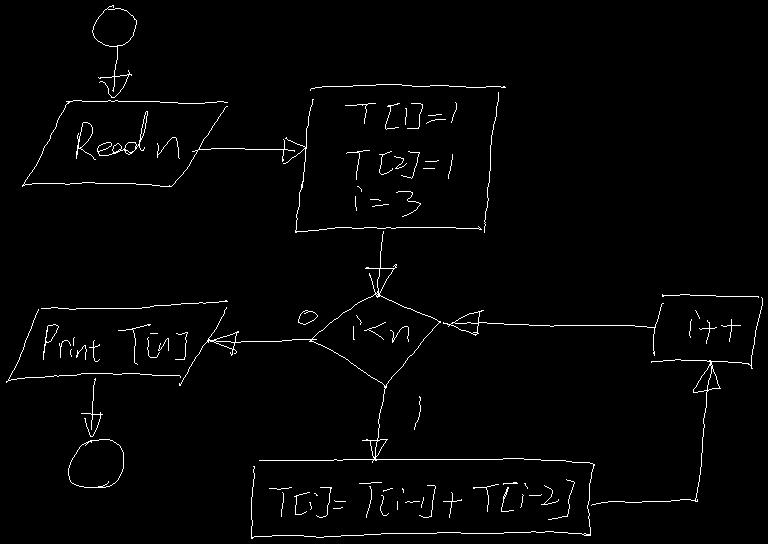arrow: (591, 360, 720, 505), (443, 310, 654, 335), (192, 137, 306, 163), (207, 331, 316, 355), (365, 231, 396, 297), (362, 386, 387, 462), (98, 45, 131, 97), (81, 378, 102, 436)
connection: (68, 439, 123, 487), (92, 5, 136, 46)
data: (6, 300, 227, 385), (22, 100, 227, 186)
decision: (309, 291, 440, 387)
process: (295, 84, 505, 232), (251, 458, 594, 538), (651, 294, 762, 368)
text: (345, 102, 456, 216), (269, 479, 574, 519), (43, 324, 187, 364), (76, 111, 179, 159), (689, 310, 740, 343), (353, 315, 408, 342), (298, 310, 317, 324), (414, 396, 420, 429)
